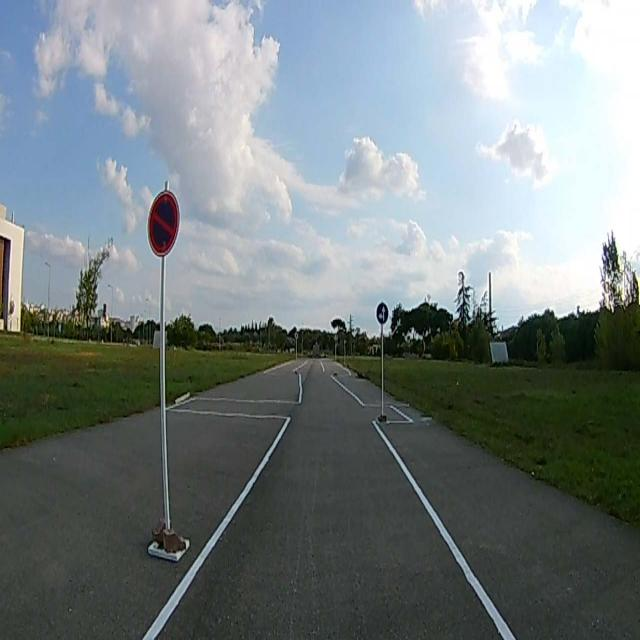ilerisol: (376, 303, 389, 325)
parkyasak: (146, 191, 178, 256)
